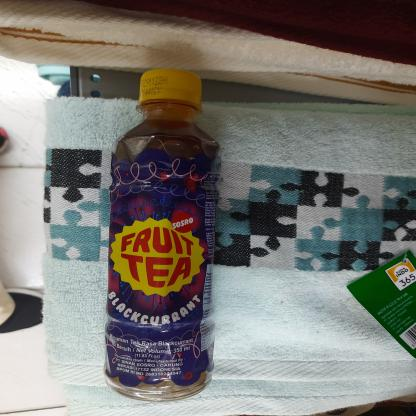bottle: (99, 61, 221, 404)
